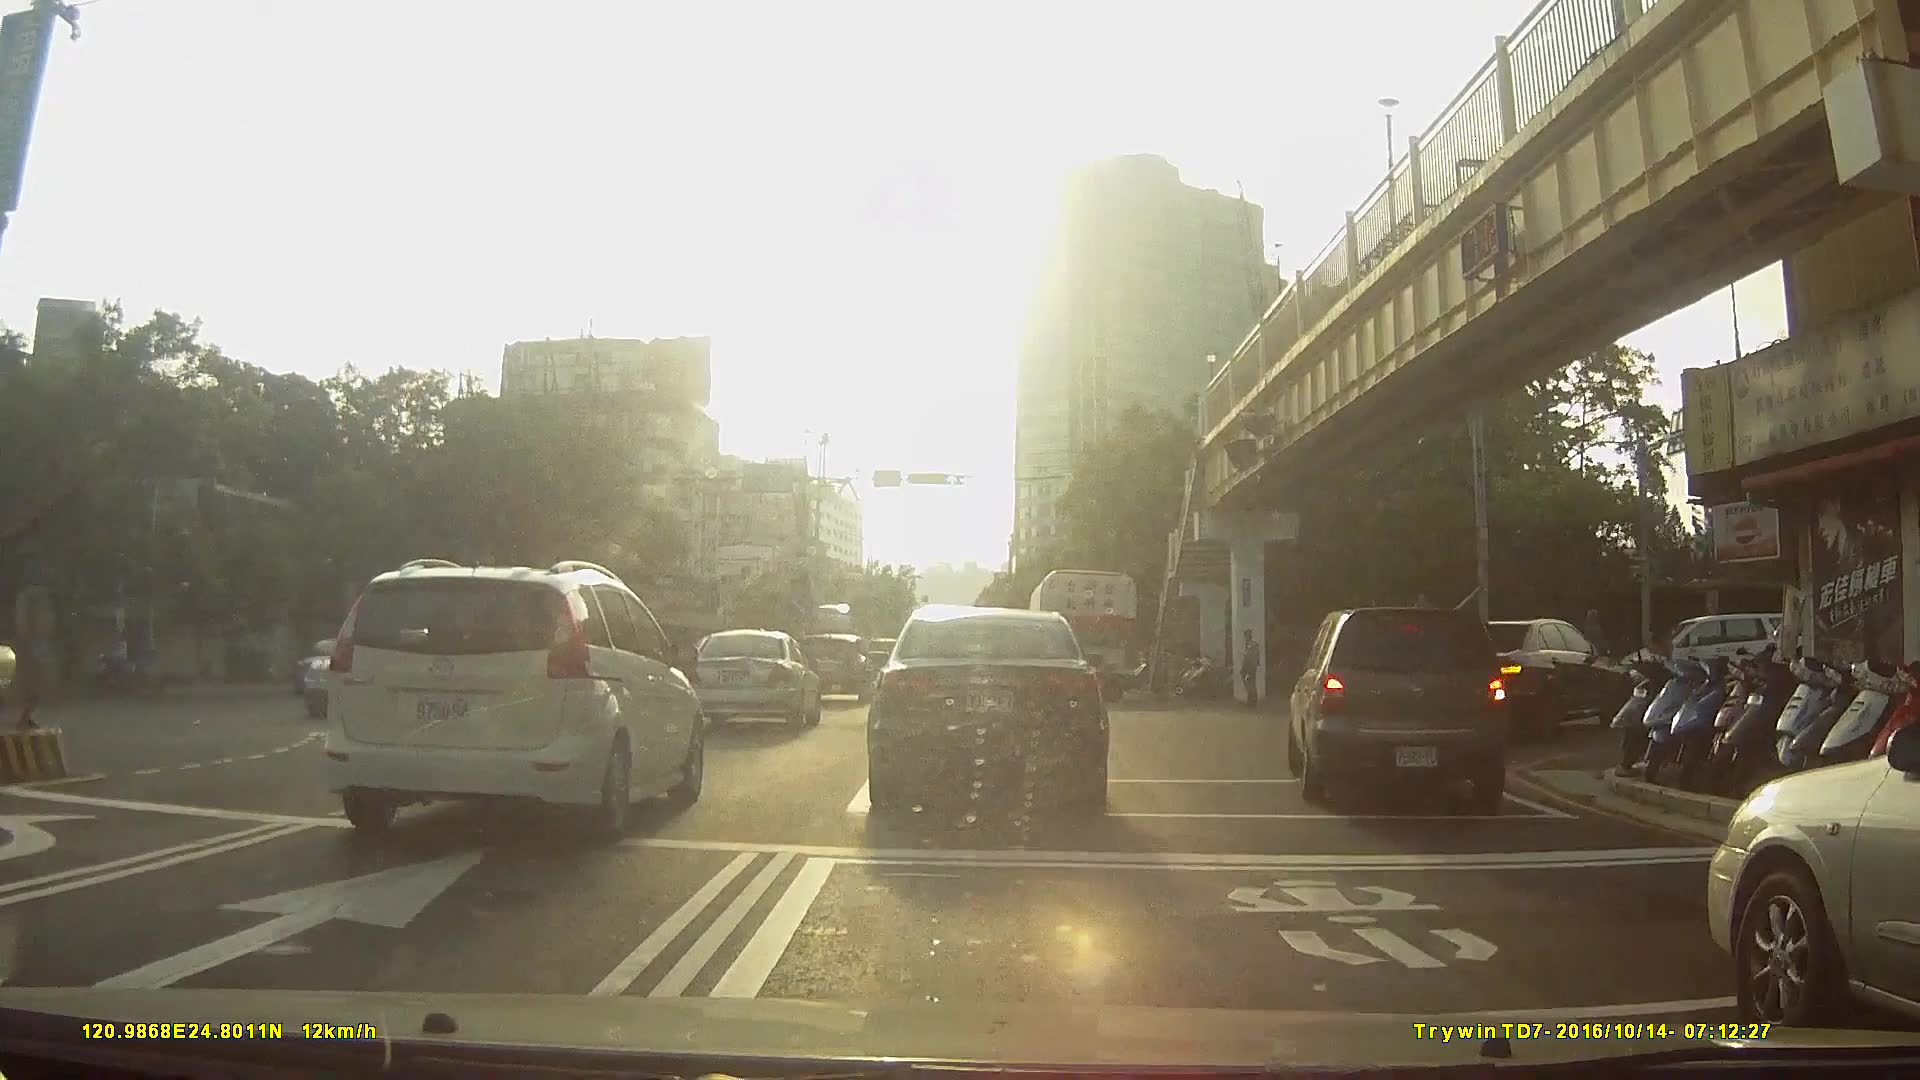pedestrian: (1238, 627, 1269, 707)
vehicle: (321, 558, 707, 846), (1719, 748, 1920, 1035), (870, 595, 1112, 817), (1279, 600, 1523, 811), (1446, 615, 1667, 737), (273, 621, 433, 719), (1028, 563, 1140, 701), (688, 627, 822, 734), (798, 629, 876, 702)
